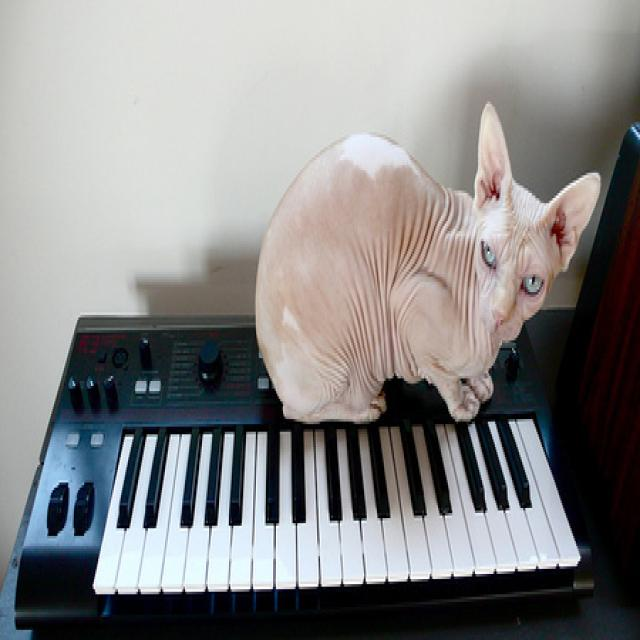Sphynx: (252, 96, 604, 428)
